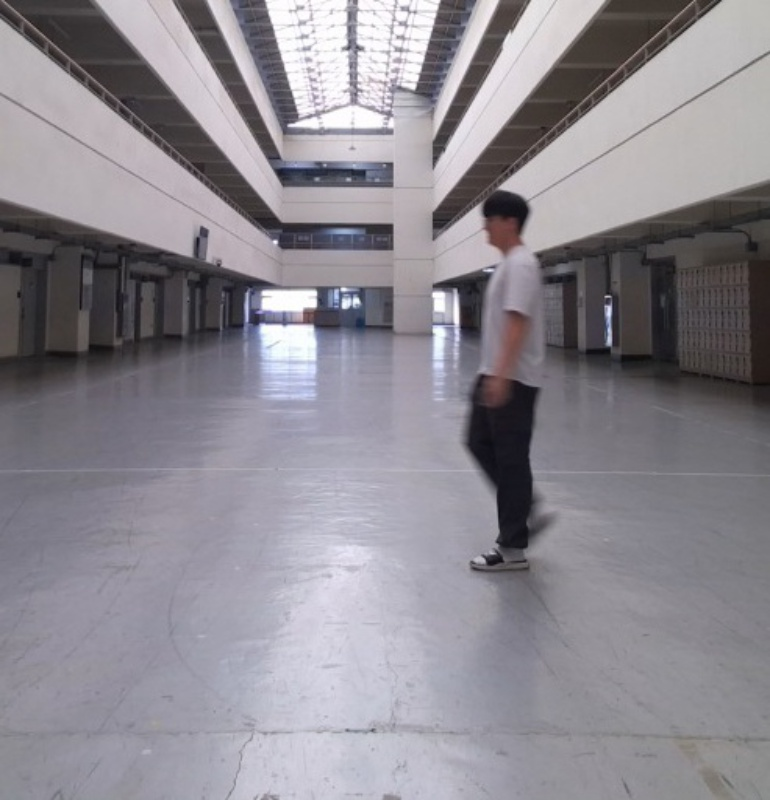person: (459, 188, 564, 576)
